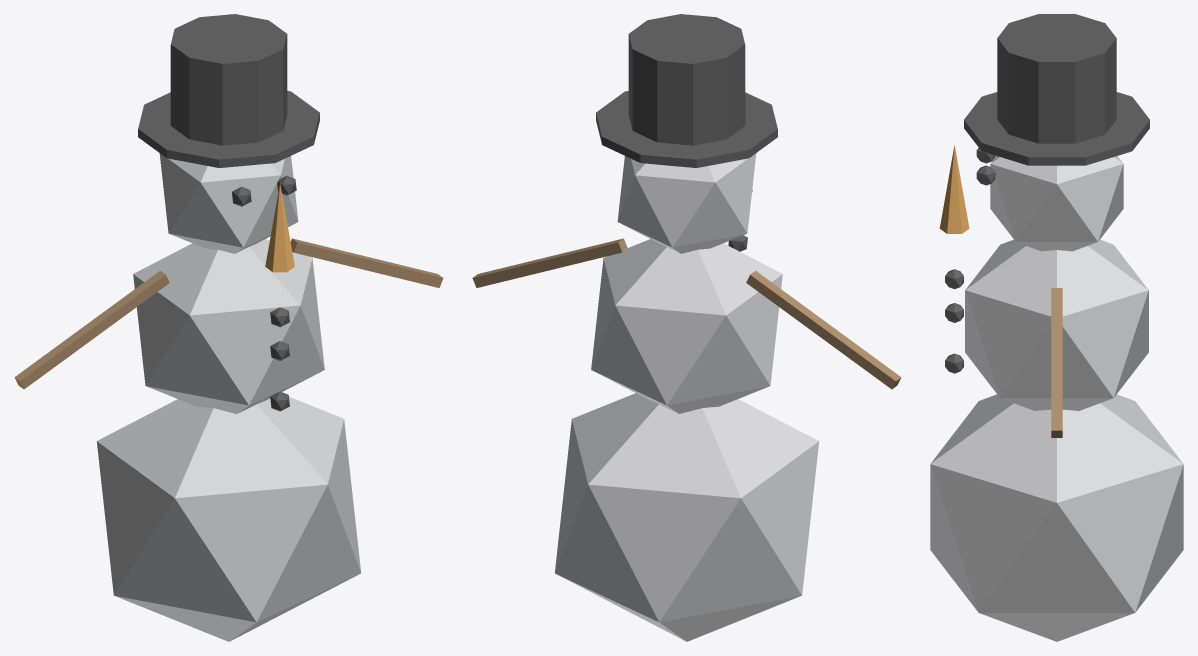
File: snowman.glb
3 renders of one model, left to right at view 1: azimuth 30°, elevation 25°; view 2: azimuth 150°, elevation 25°; view 3: azimuth 270°, elevation 25°, orthographic.
Parts seen in each view (by area): view 1: snowman; view 2: snowman; view 3: snowman.
Boxes of the visible parts, x1,y1,x2,y2 form: snowman: [14, 14, 443, 641]; snowman: [472, 14, 901, 641]; snowman: [930, 14, 1183, 641].
Size of the model in its own units: 2.63 by 3.58 by 1.36.
